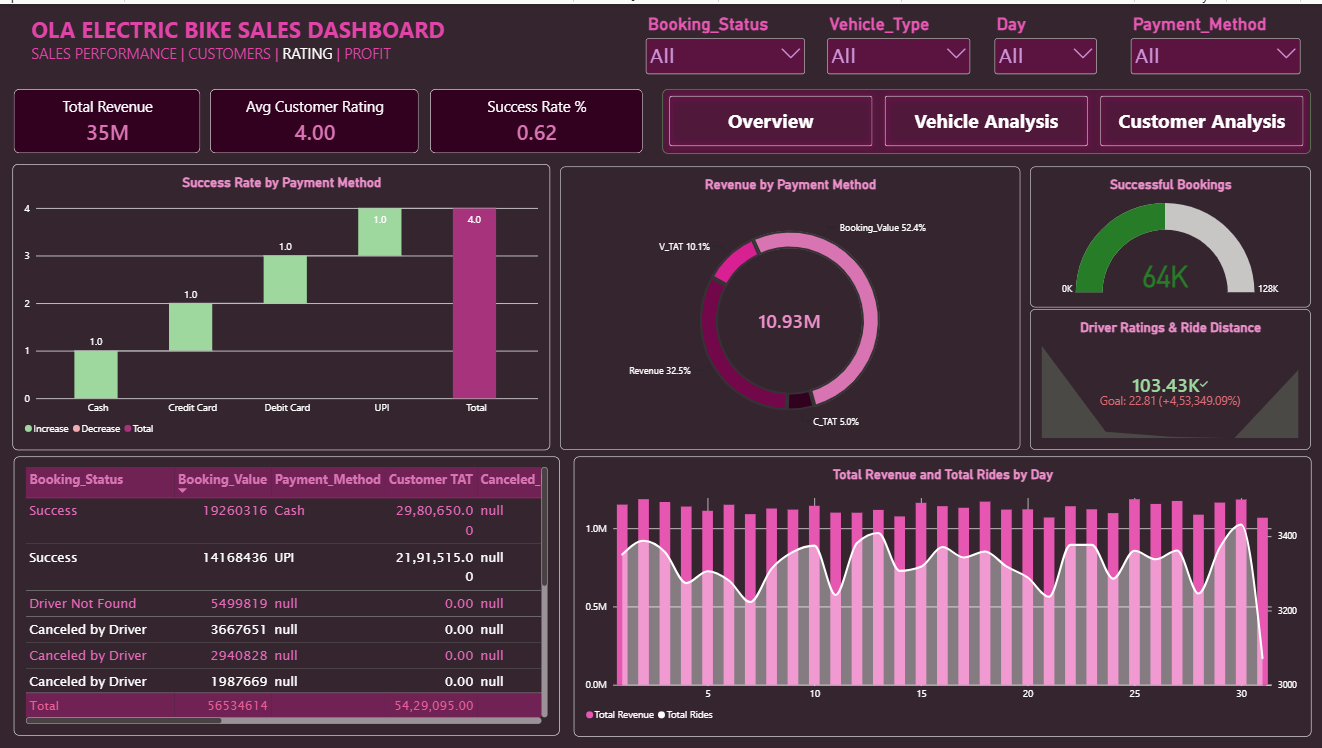

This screenshot's page, from the dashboard's own definition file:
{"tool":"powerbi","page":{"name":"Rating Analysis","canvas":[1920,1080],"ordinal":2},"visuals":[{"type":"cardVisual","fields":{"Data":["July.Avg Customer Rating"]},"box":[304.5,123.7,302.6,93.3],"z":0},{"type":"cardVisual","fields":{"Data":["July.Total Revenue"]},"box":[19,123.7,270.3,93.3],"z":1000},{"type":"slicer","fields":{"Values":["July.Booking_Status"]},"box":[930.7,15.2,239.8,95.2],"z":2000},{"type":"slicer","fields":{"Values":["July.Date.Variation.Date Hierarchy.Day"]},"box":[1435.1,15.2,158,95.2],"z":3000},{"type":"slicer","fields":{"Values":["July.Vehicle_Type"]},"box":[1193.3,15.2,217,95.2],"z":4000},{"type":"slicer","fields":{"Values":["July.Payment_Method"]},"box":[1633,15.2,255,95.2],"z":5000},{"type":"cardVisual","fields":{"Data":["July.Success Rate %"]},"box":[622.4,123.7,308.3,93.3],"z":6000},{"type":"lineStackedColumnComboChart","fields":{"Category":["July.Date.Variation.Date Hierarchy.Day"],"Y":["July.Total Revenue"],"Y2":["July.Total Rides"]},"box":[830.6,655.1,1067.7,405.4],"z":7000},{"type":"donutChart","title":"Revenue by Payment Method","fields":{"Y":["Sum(July.V_TAT)","Sum(July.Booking_Value)","Sum(July.C_TAT)","July.Total Revenue"]},"box":[810,236,666,410],"z":8000},{"type":"tableEx","fields":{"Values":["July.Booking_Status","Sum(July.Booking_Value)","July.Payment_Method","Sum(July.C_TAT)","July.Canceled_Rides_by_Customer","Sum(July.Customer_Rating)","Sum(July.V_TAT)","July.Canceled_Rides_by_Driver","Sum(July.Driver_Ratings)","July.Total Rides"]},"box":[20,656,790,404],"z":9000},{"type":"waterfallChart","title":"Success Rate by Payment Method","fields":{"Category":["July.Payment_Method"],"Y":["July.Success Rate %"]},"box":[18,232,778,414],"z":10000},{"type":"textbox","box":[45.2,14.5,642.4,79.6],"z":11000},{"type":"pageNavigator","box":[959.2,123.7,938.3,93.3],"z":12000},{"type":"gauge","fields":{"Y":["July.Successful Bookings"]},"box":[1492,236,406,204],"z":13000},{"type":"kpi","title":" Driver Ratings & Ride Distance","fields":{"Goal":["July.Avg Ride Distance"],"Indicator":["Sum(July.Driver_Ratings)"],"TrendLine":["July.Payment_Method"]},"box":[1492,442,406,204],"z":14000}]}

Visuals, with their boxes in screenshot pixels (x1, y1, x2, y2), scaled from the page's 1920x1080 canvas onto the 1322x748 screenshot:
cardVisual - July.Avg Customer Rating: (210, 86, 418, 150)
cardVisual - July.Total Revenue: (13, 86, 199, 150)
slicer - July.Booking_Status: (641, 11, 806, 76)
slicer - July.Date.Variation.Date Hierarchy.Day: (988, 11, 1097, 76)
slicer - July.Vehicle_Type: (822, 11, 971, 76)
slicer - July.Payment_Method: (1124, 11, 1300, 76)
cardVisual - July.Success Rate %: (429, 86, 641, 150)
lineStackedColumnComboChart - July.Date.Variation.Date Hierarchy.Day x July.Total Revenue: (572, 454, 1307, 734)
"Revenue by Payment Method" donutChart: (558, 163, 1016, 447)
tableEx - July.Booking_Status x Sum(July.Booking_Value): (14, 454, 558, 734)
"Success Rate by Payment Method" waterfallChart: (12, 161, 548, 447)
textbox: (31, 10, 473, 65)
pageNavigator: (660, 86, 1307, 150)
gauge - July.Successful Bookings: (1027, 163, 1307, 305)
" Driver Ratings & Ride Distance" kpi: (1027, 306, 1307, 447)
